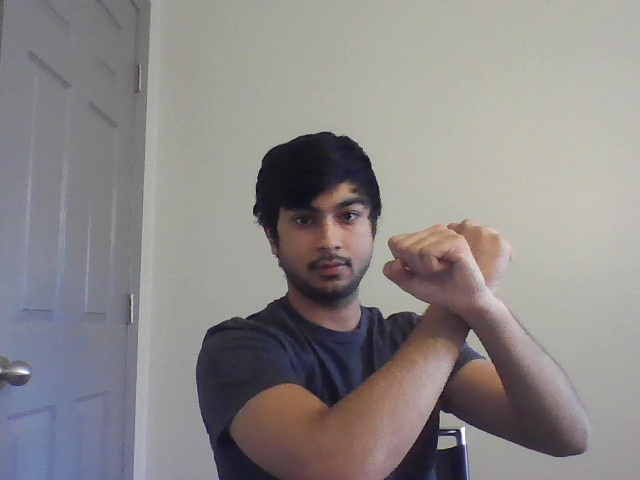cancel: (366, 216, 569, 363)
